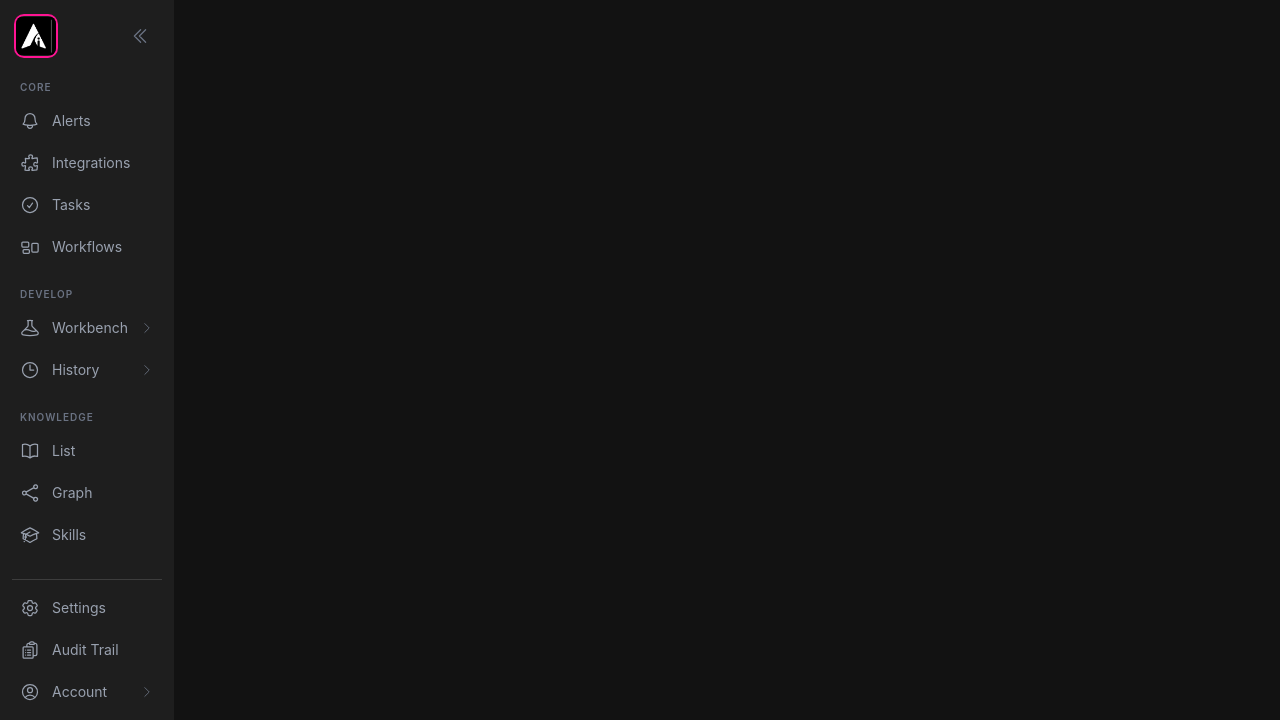
Sidebar › submenu flyouts › opens History flyout on click
The image size is (1280, 720).
Click the link "History".
click(87, 370)  # box [20, 360, 154, 380]
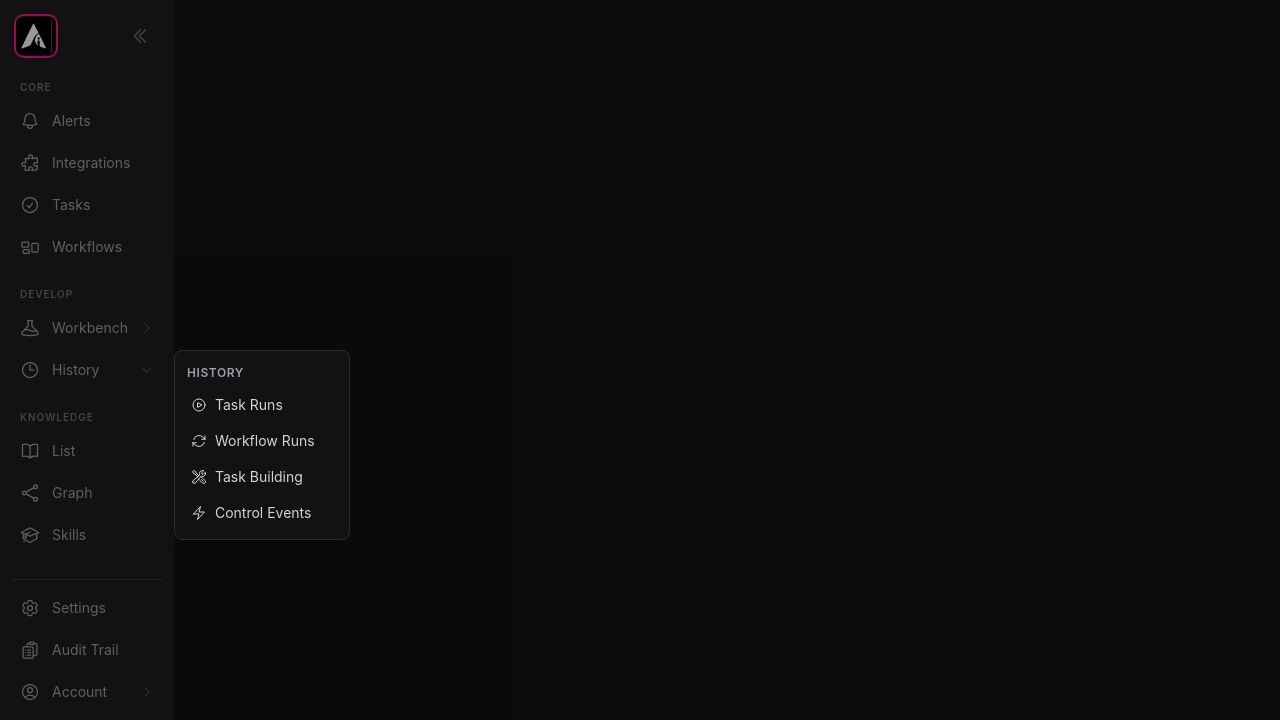
Check: the menu is shown, box [174, 350, 350, 540]
Check: the menu item "Task Runs" is shown, box [191, 396, 283, 413]
Check: the menu item "Workflow Runs" is shown, box [191, 432, 315, 449]
